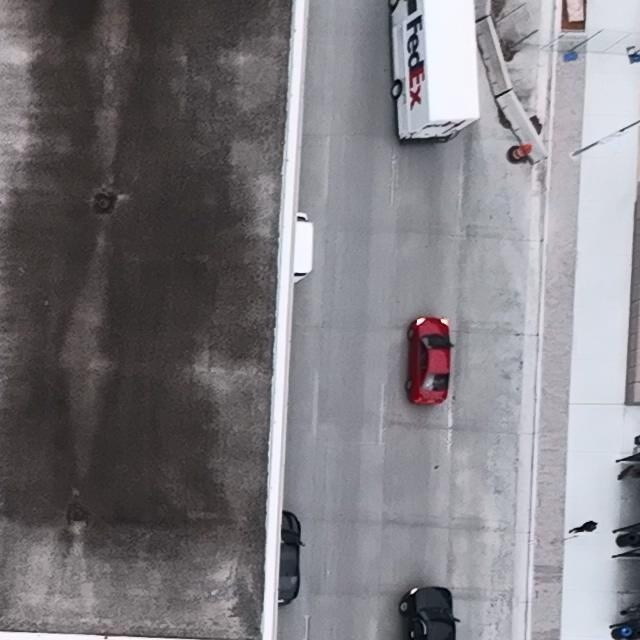car: (387, 0, 480, 144), (405, 317, 454, 408), (399, 586, 460, 640), (278, 510, 305, 606)
